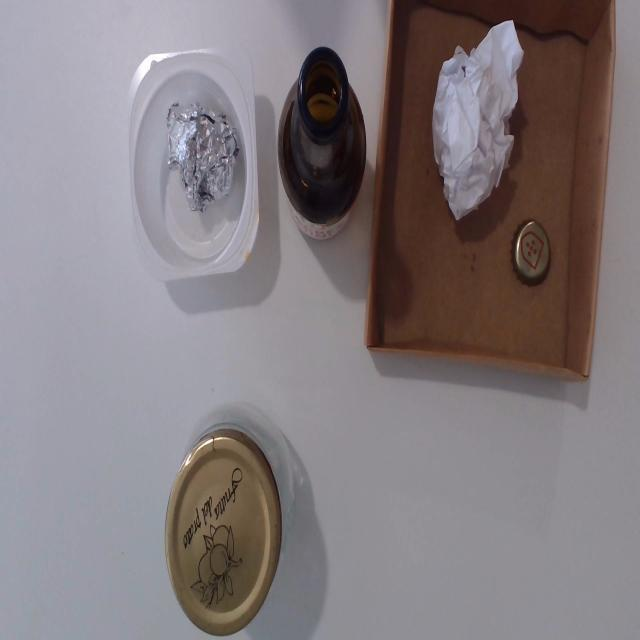Glass: (274, 47, 369, 253)
Paper: (435, 18, 524, 222)
